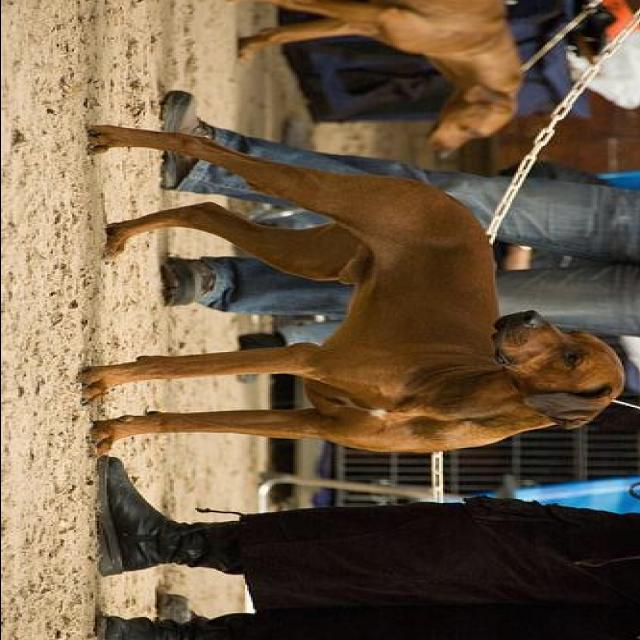rhodesian_ridgeback: (8, 122, 640, 461), (236, 1, 518, 163)
